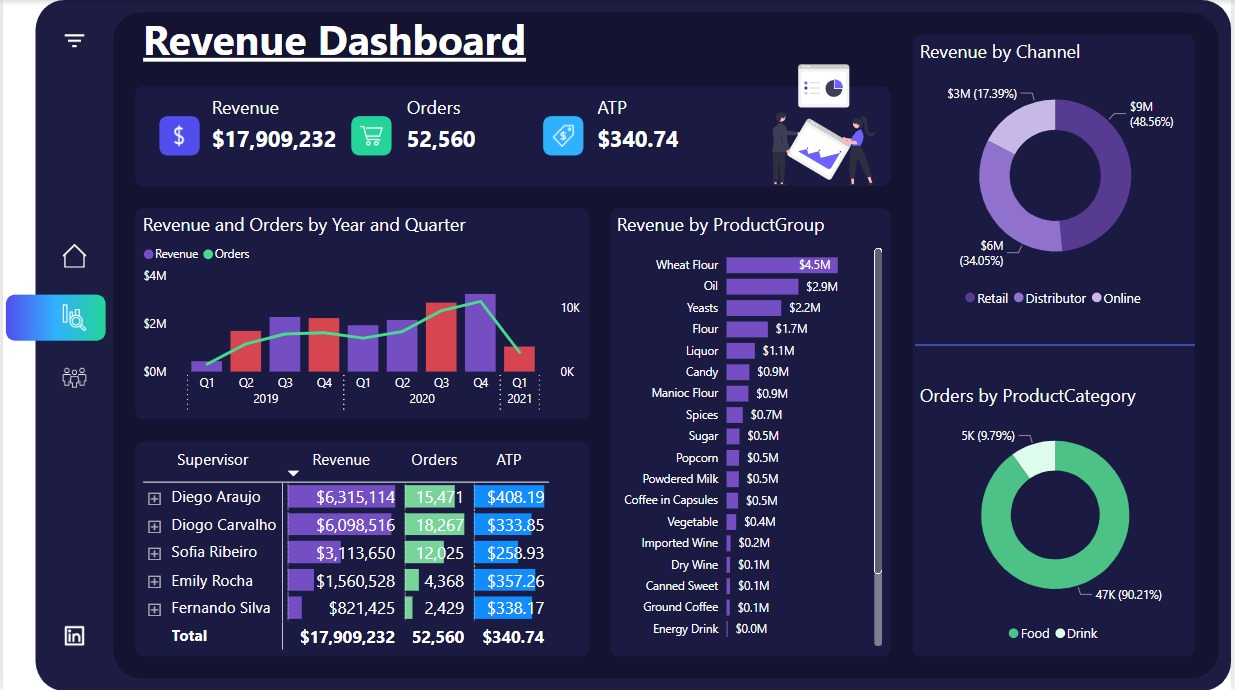

Layout of this report page (visuals, bound fields, positions):
{"tool":"powerbi","page":{"name":"Revenue","canvas":[1280,720],"ordinal":0},"visuals":[{"type":"multiRowCard","title":"Revenue","fields":{"Values":["Key Measures.Revenue"]},"box":[213.3,98.3,161.7,75],"z":0},{"type":"multiRowCard","title":"Orders","fields":{"Values":["Key Measures.Orders"]},"box":[415,98.3,163.3,75],"z":1000},{"type":"multiRowCard","title":"ATP","fields":{"Values":["Key Measures.ATP"]},"box":[615,98.3,163.3,75],"z":2000},{"type":"lineClusteredColumnComboChart","fields":{"Category":["dCalendar.Year","dCalendar.Quarter"],"Y":["Key Measures.Revenue"],"Y2":["Key Measures.Orders"]},"box":[141.2,220,465,217.5],"z":3000},{"type":"actionButton","box":[0,0,100,40],"z":4000},{"type":"pivotTable","fields":{"Rows":["dSalesperson.Supervisor","dSalesperson.Salesperson"],"Values":["Key Measures.Revenue","Key Measures.Orders","Key Measures.ATP"]},"box":[140.7,459.5,465.8,229.8],"z":5000},{"type":"clusteredBarChart","fields":{"Category":["Group.ProductGroup"],"Y":["Key Measures.Revenue"]},"box":[634.6,220.4,286,458],"z":6000},{"type":"donutChart","fields":{"Category":["dSalesperson.Channel"],"Y":["Key Measures.Revenue"]},"box":[950,40,291.7,288.3],"z":7000},{"type":"donutChart","fields":{"Category":["dProduct.ProductCategory"],"Y":["Key Measures.Orders"]},"box":[950,398.3,291.7,280],"z":8000},{"type":"shape","box":[950,285,291.7,150],"z":9000},{"type":"textbox","box":[140,6.7,465,76.7],"z":10000},{"type":"actionButton","box":[0,366.7,111.7,51.7],"z":11000}]}

Visuals, with their boxes on the page's 1280x720 design canvas (x1, y1, x2, y2). These are canvas units, not pixel positions in the 1235x690 screenshot, which may show the page scaled, cropped or inside an application window:
"Revenue" multiRowCard: BBox(213, 98, 375, 173)
"Orders" multiRowCard: BBox(415, 98, 578, 173)
"ATP" multiRowCard: BBox(615, 98, 778, 173)
lineClusteredColumnComboChart - dCalendar.Year x dCalendar.Quarter: BBox(141, 220, 606, 438)
actionButton: BBox(0, 0, 100, 40)
pivotTable - dSalesperson.Supervisor x dSalesperson.Salesperson: BBox(141, 460, 606, 689)
clusteredBarChart - Group.ProductGroup x Key Measures.Revenue: BBox(635, 220, 921, 678)
donutChart - dSalesperson.Channel x Key Measures.Revenue: BBox(950, 40, 1242, 328)
donutChart - dProduct.ProductCategory x Key Measures.Orders: BBox(950, 398, 1242, 678)
shape: BBox(950, 285, 1242, 435)
textbox: BBox(140, 7, 605, 83)
actionButton: BBox(0, 367, 112, 418)
